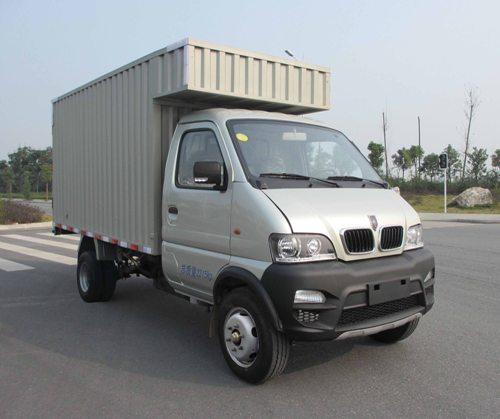smalltruck: (47, 38, 456, 387)
